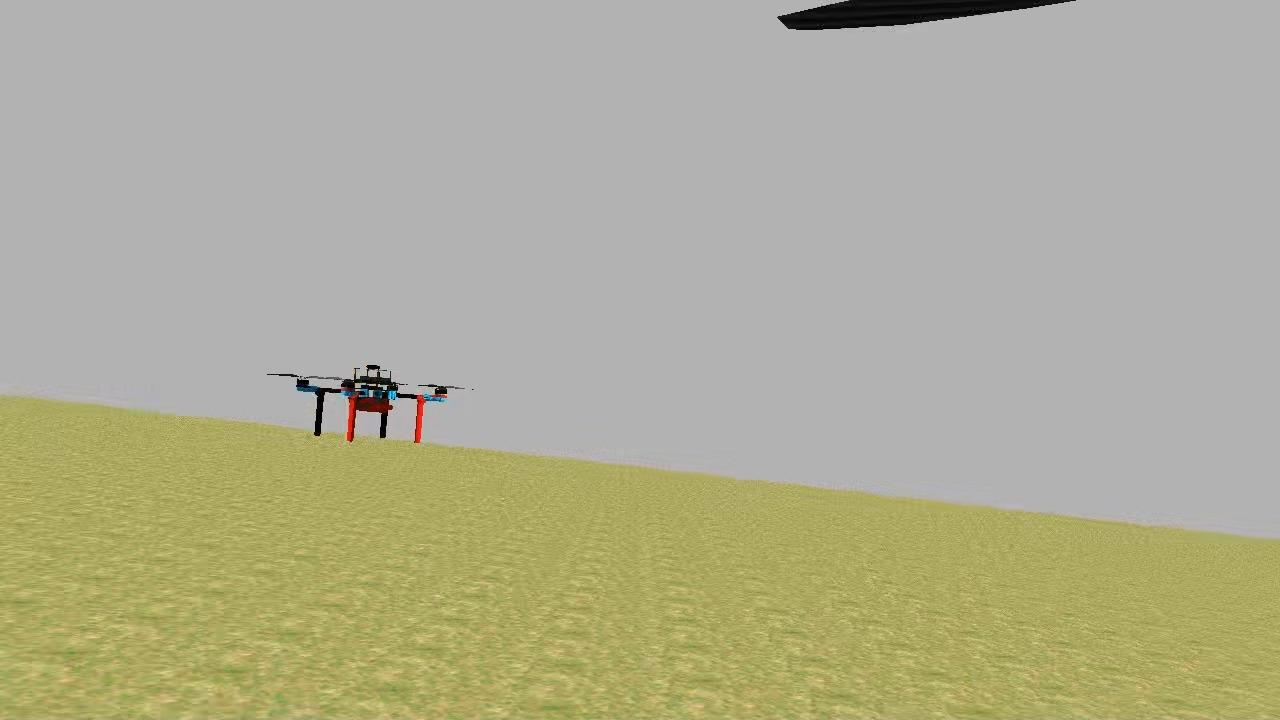UAV: (248, 348, 496, 478)
